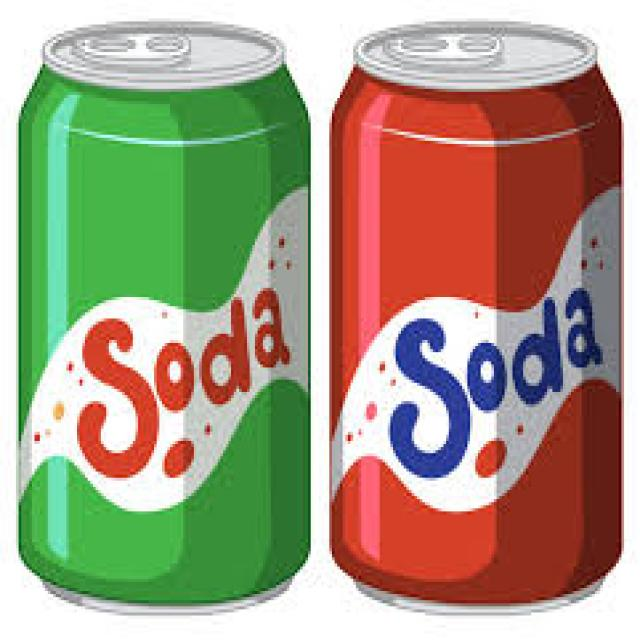Cans: (5, 15, 319, 612), (318, 19, 634, 612)
